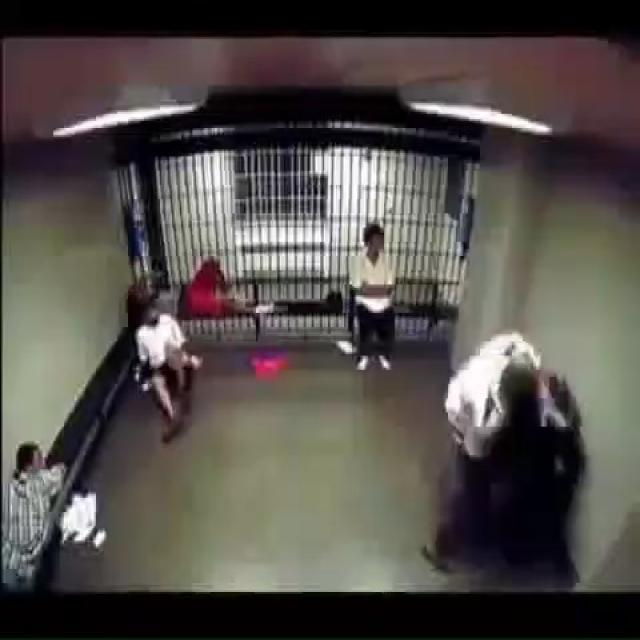fight: (403, 295, 605, 580)
